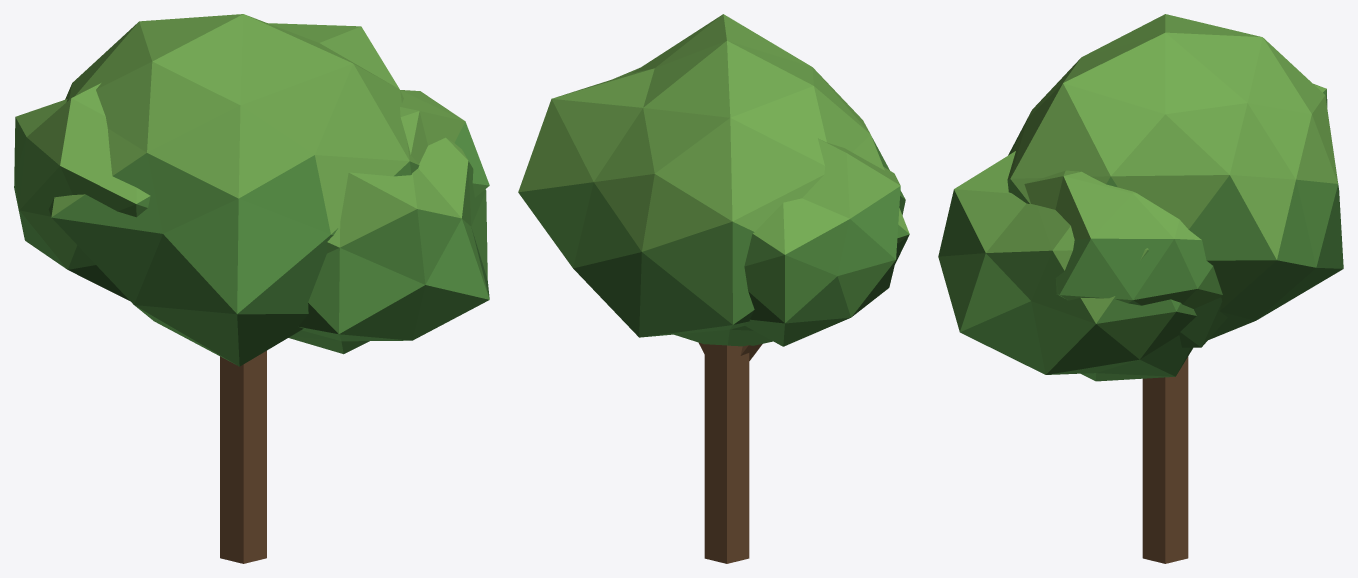
File: tree_broadleaf_b.glb
3 renders of one model, left to right at view 1: azimuth 30°, elevation 25°; view 2: azimuth 150°, elevation 25°; view 3: azimuth 270°, elevation 25°, orthographic. The views are drawn at different scales.
Parts seen in each view (by area): view 1: tree_broadleaf_b; view 2: tree_broadleaf_b; view 3: tree_broadleaf_b.
Part boxes in pixels (left/top/right/bottom): tree_broadleaf_b: left=14, top=14, right=489, bottom=563; tree_broadleaf_b: left=518, top=14, right=909, bottom=563; tree_broadleaf_b: left=938, top=14, right=1343, bottom=563.
Bounding box in the file's own units: 1.73 × 2.19 × 1.54.
